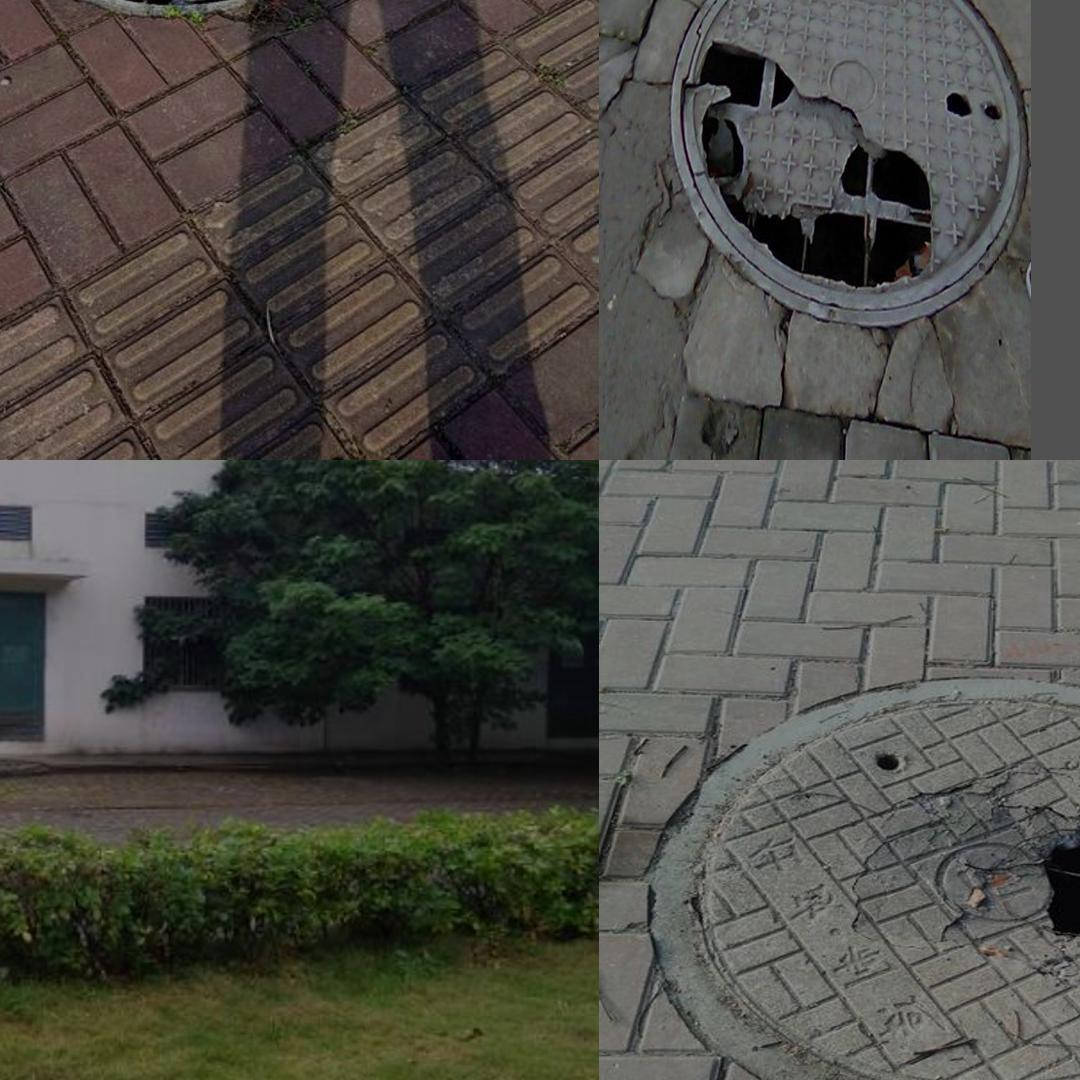broke: (636, 657, 1080, 1080), (651, 0, 1021, 390), (0, 0, 386, 28)
